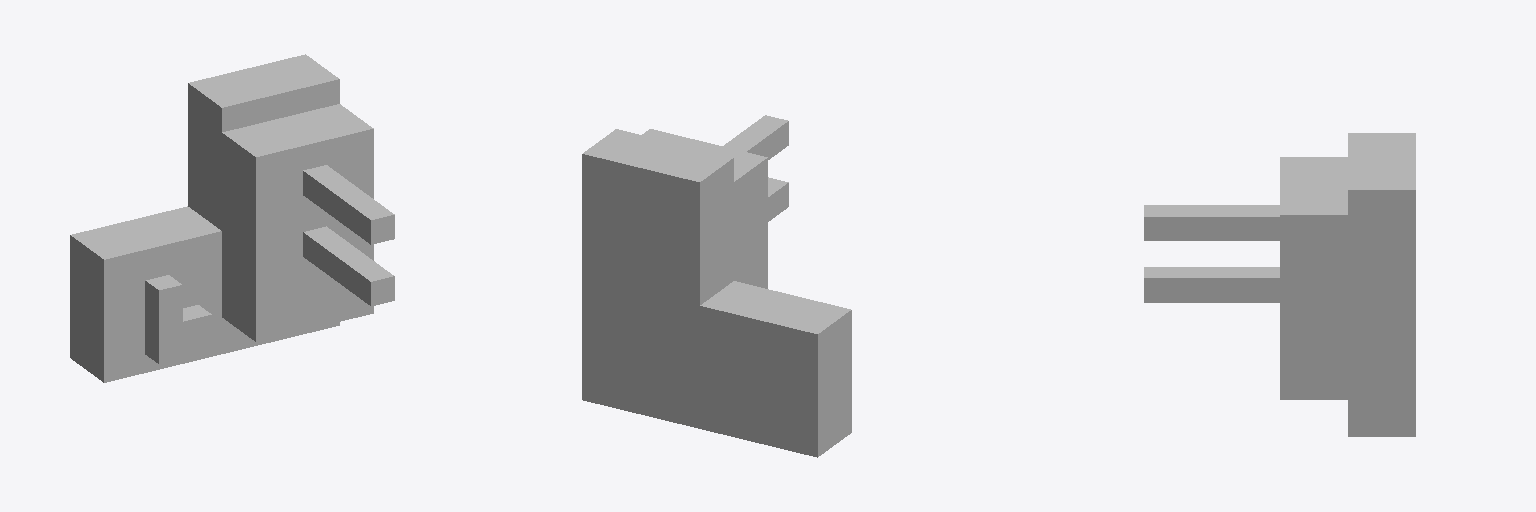
Rendered from Factory.obj.
3 renders of one model, left to right at view 1: azimuth 30°, elevation 25°; view 2: azimuth 150°, elevation 25°; view 3: azimuth 270°, elevation 25°, orthographic.
Visible parts, largest first — view 1: Factory; view 2: Factory; view 3: Factory.
Boxes of the visible parts, x1=… form: Factory: x1=70, y1=54, x2=394, y2=382; Factory: x1=582, y1=115, x2=851, y2=457; Factory: x1=1144, y1=133, x2=1415, y2=436.
Size of the model in its own units: 40 by 40 by 40.